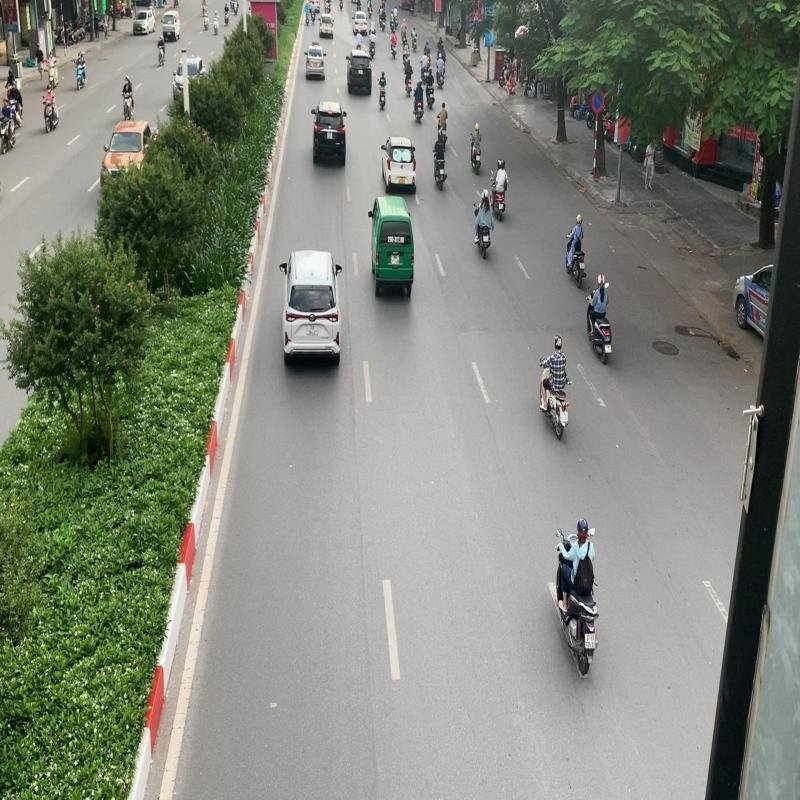helmet: (578, 518, 588, 536), (554, 336, 564, 349), (598, 274, 606, 285)
licenseplate: (585, 634, 596, 650), (560, 412, 568, 422), (604, 344, 612, 354)
motorcyclist: (552, 516, 600, 676), (538, 334, 573, 439), (585, 272, 615, 366)
